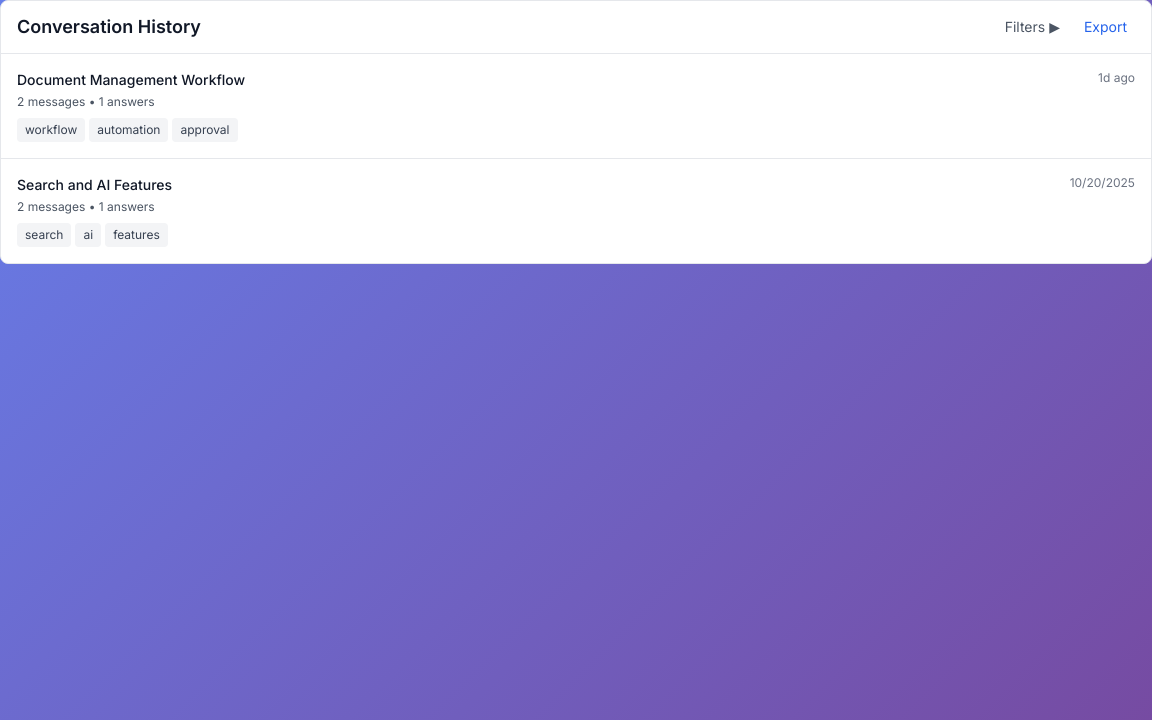
Test case: ConversationHistoryManager › toggles filters panel when filters button is clicked
Click the button "Filters ▶". click: [1032, 27]
box: [997, 13, 1068, 41]
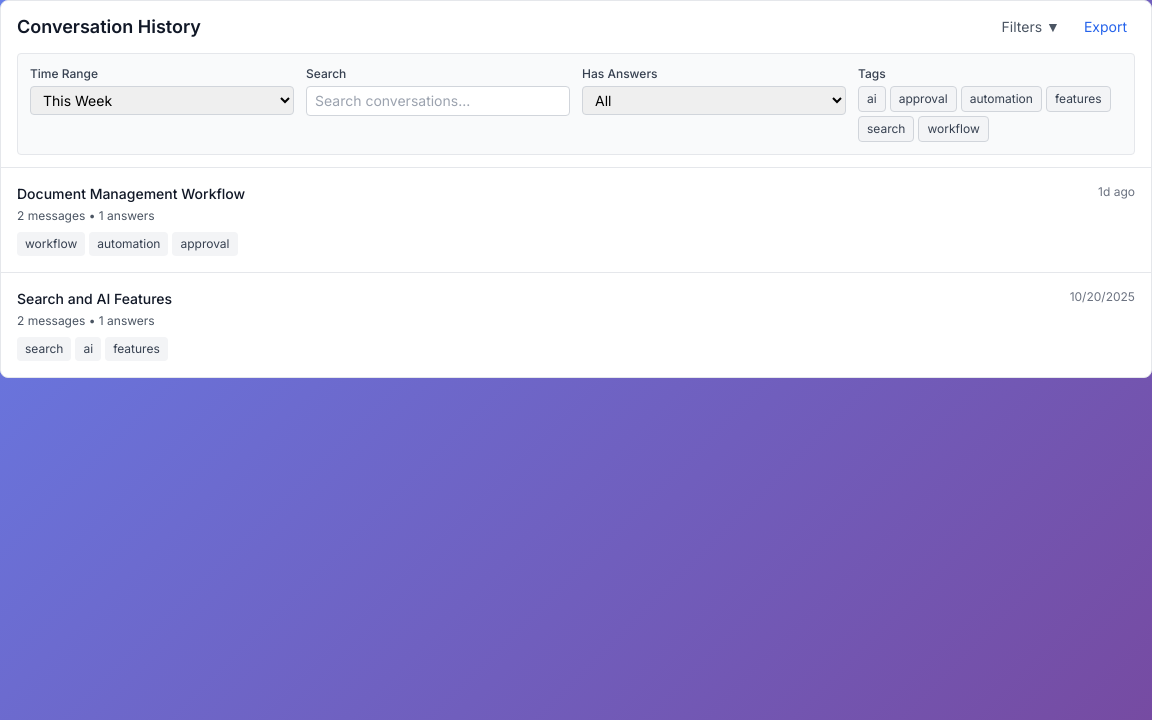
Check: the text "Time Range" is shown, box [30, 66, 98, 81]
Check: the text "Search" is shown, box [306, 66, 346, 81]
Check: the text "Has Answers" is shown, box [582, 66, 658, 81]
